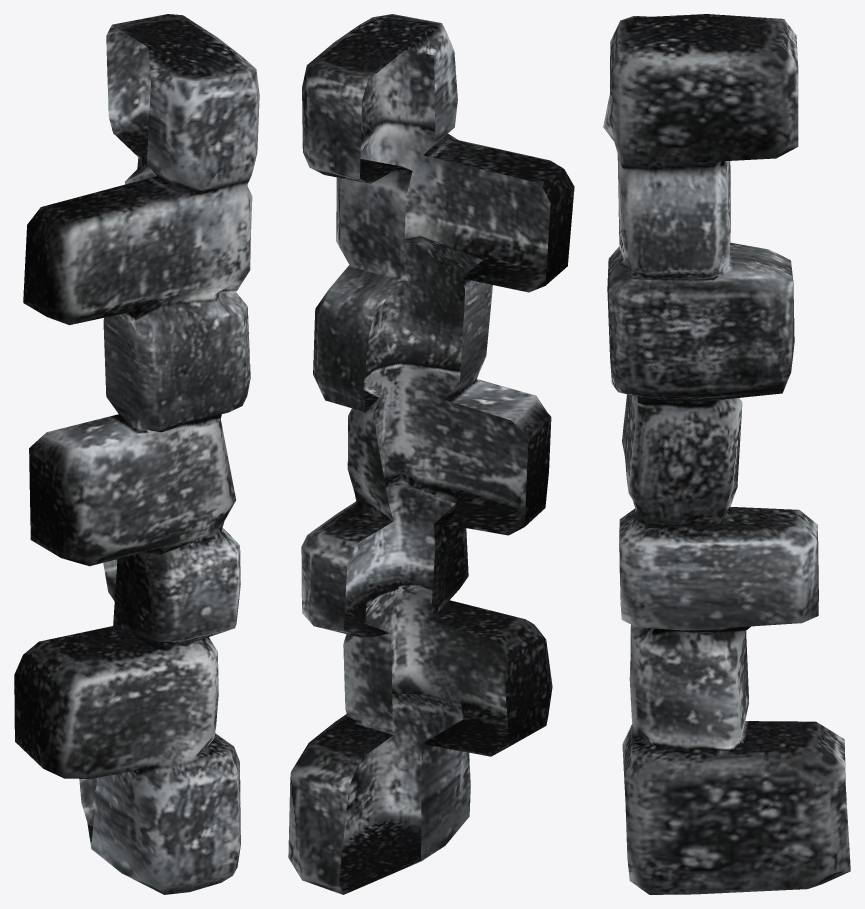
Rendered from Stone Corner.FBX.
The picture shows the model from 3 angles, left to right: view 1: azimuth 30°, elevation 25°; view 2: azimuth 150°, elevation 25°; view 3: azimuth 270°, elevation 25°; orthographic projection. The views are drawn at different scales.
Visible parts, largest first — view 1: Stone Corner; view 2: Stone Corner; view 3: Stone Corner.
Part boxes in pixels (left/top/right/bottom): Stone Corner: left=14, top=14, right=259, bottom=894; Stone Corner: left=288, top=14, right=574, bottom=894; Stone Corner: left=603, top=14, right=850, bottom=894.
Size of the model in its own units: 51.36 by 50.79 by 193.
Materials: 1 (1 with a texture image).
